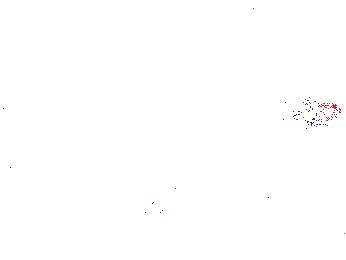glassfish: (208, 117, 287, 184), (129, 193, 177, 227)
red belly glassfish: (288, 102, 343, 125)
